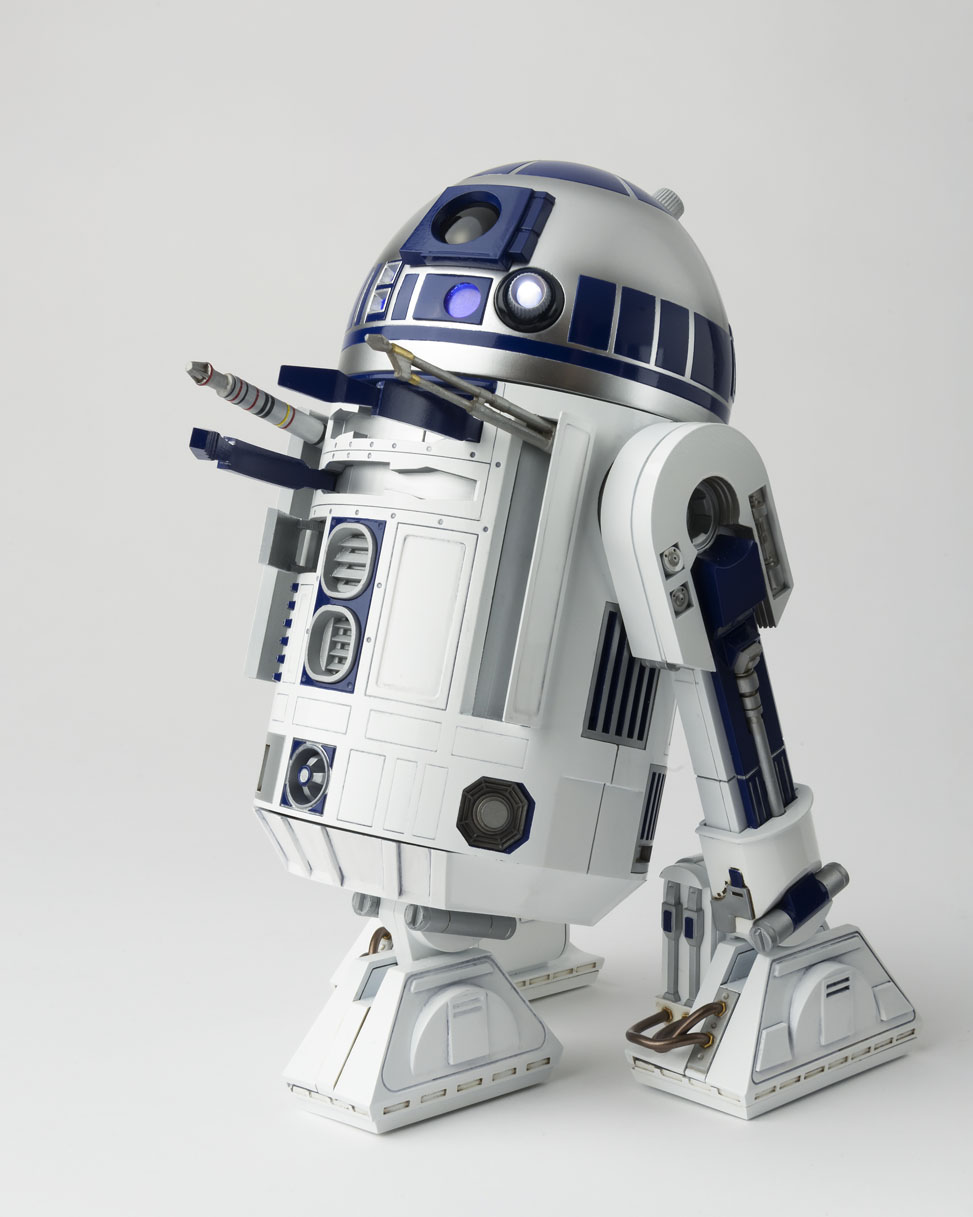r2d2: (249, 160, 914, 1137)
